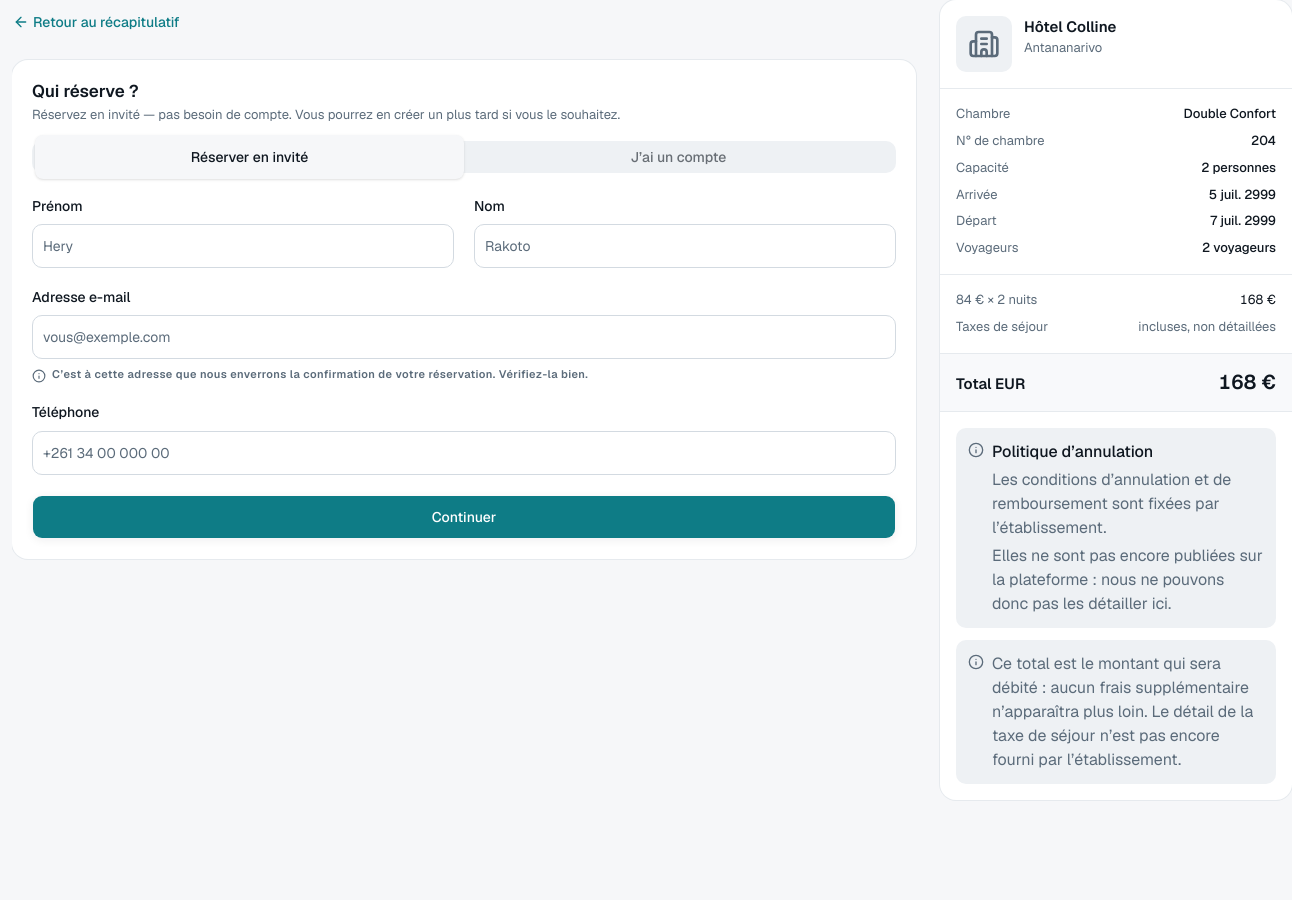
BookingIdentify (intégration — story 2.3) › connexion depuis l’onglet compte : pas de navigation, l’écran passe au panneau connecté
This screenshot has width=1292, height=900.
Expected: the form with test id "guest-form" is shown, top-left (32, 197), bottom-right (896, 539)
Click the tab with test id "identify-tab-account".
click(678, 157)  # box top-left (464, 135), bottom-right (893, 179)
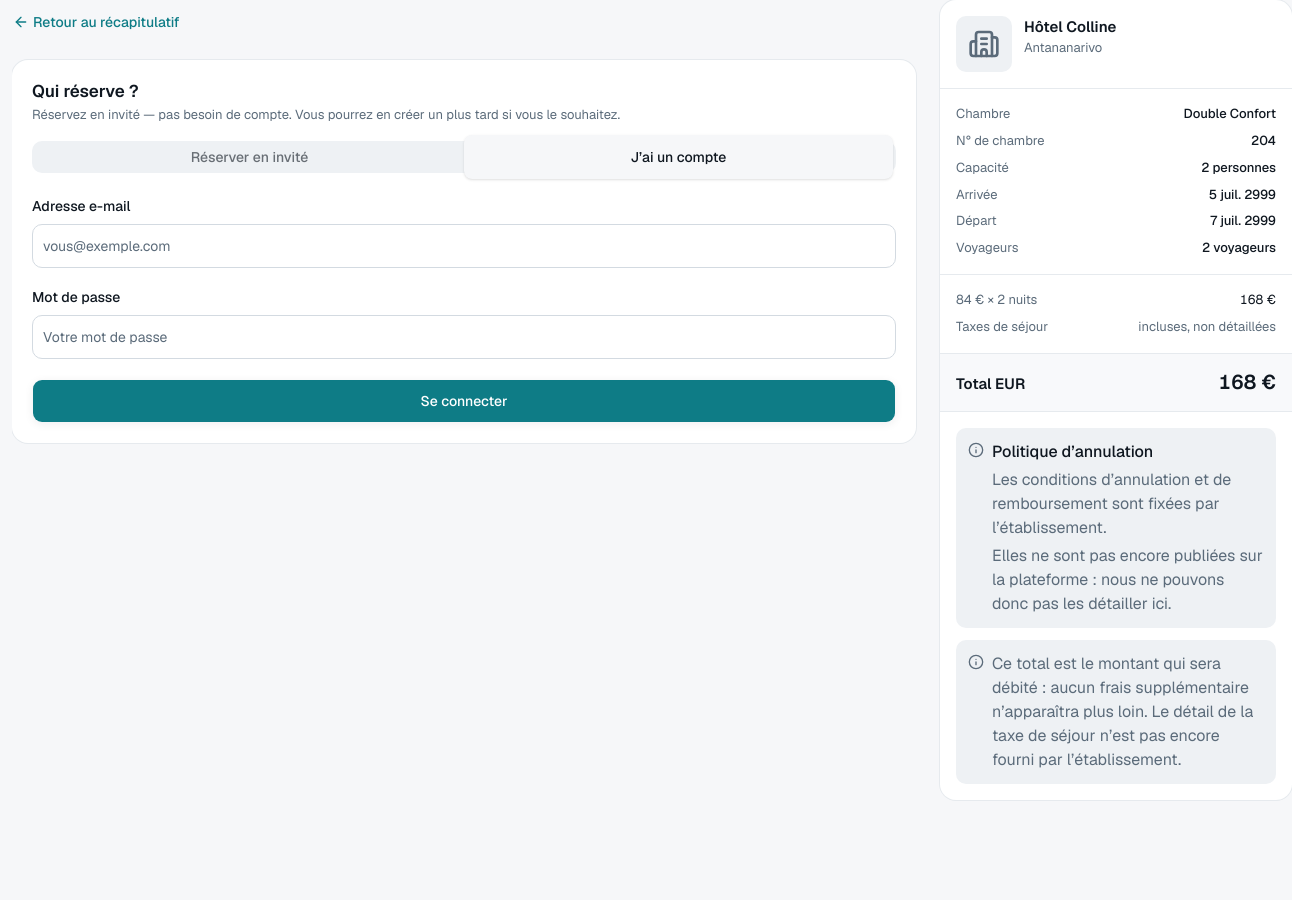
Type "voyageur@example.com" into the field with test id "login-email".
click(464, 246); type("voyageur@example.com")  # box top-left (32, 224), bottom-right (896, 268)
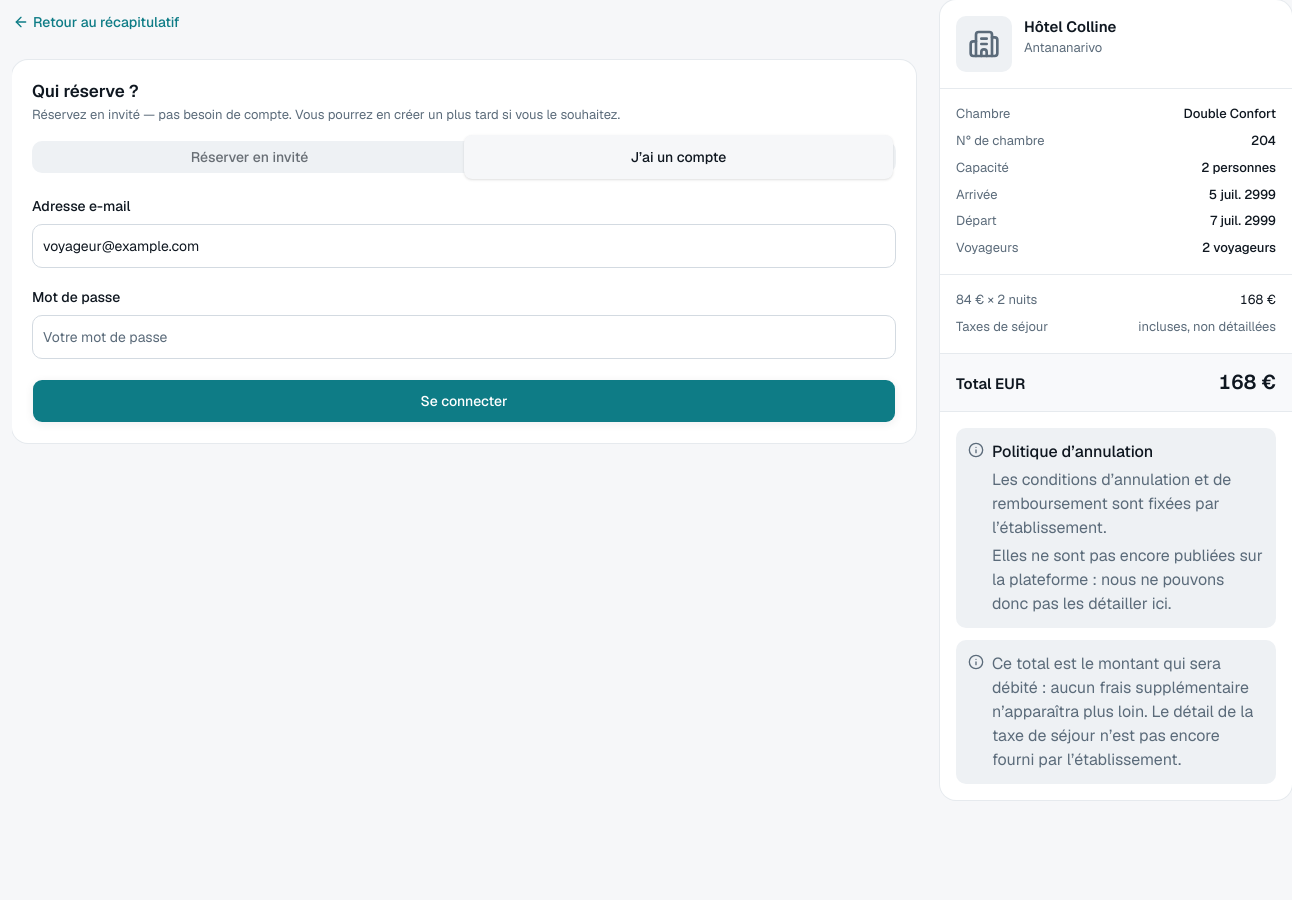
Type "secret123" into the password field with test id "login-password".
click(464, 337); type("secret123")  # box top-left (32, 315), bottom-right (896, 359)
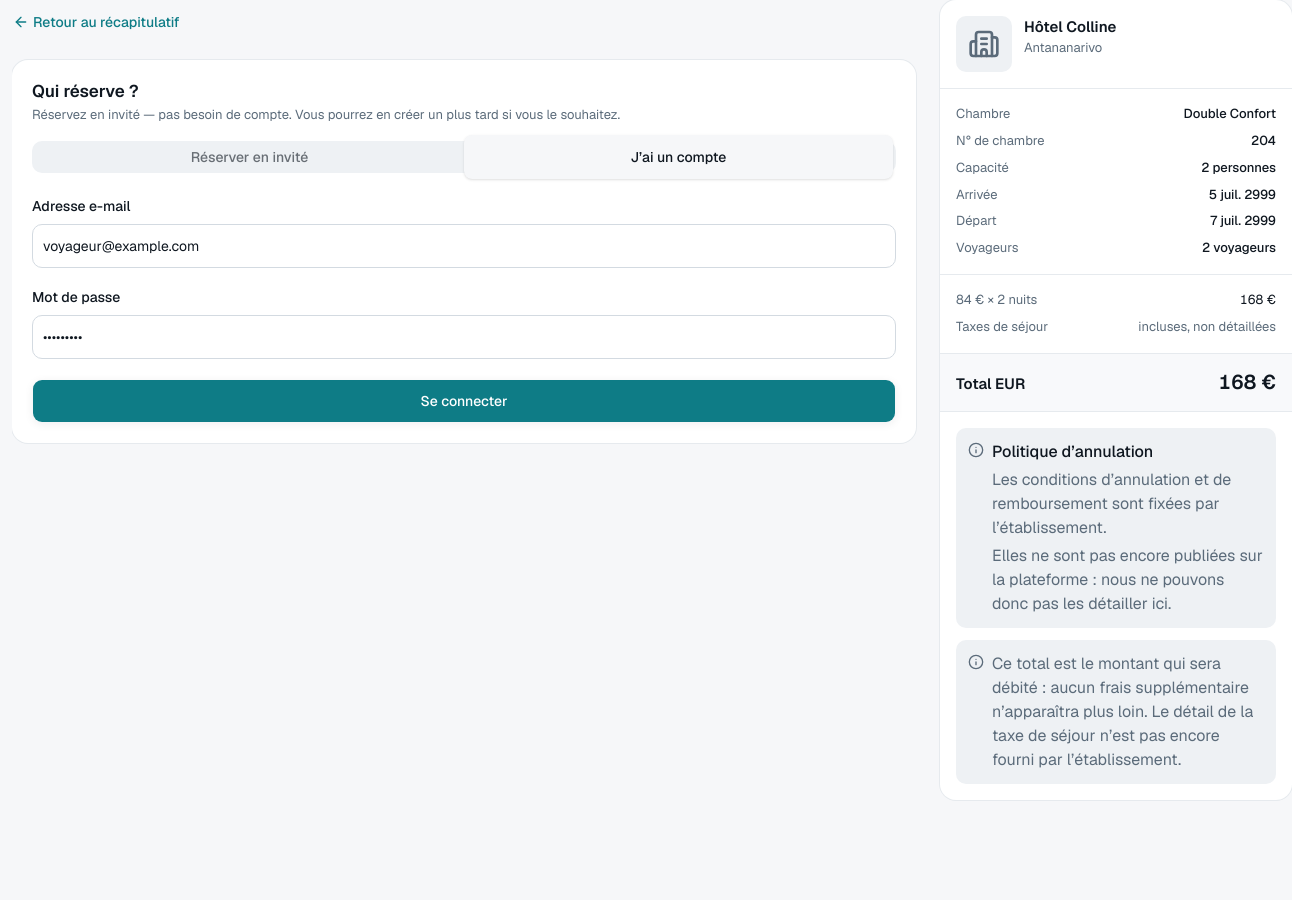
Click the button with test id "login-submit".
click(464, 401)  # box top-left (32, 379), bottom-right (896, 423)
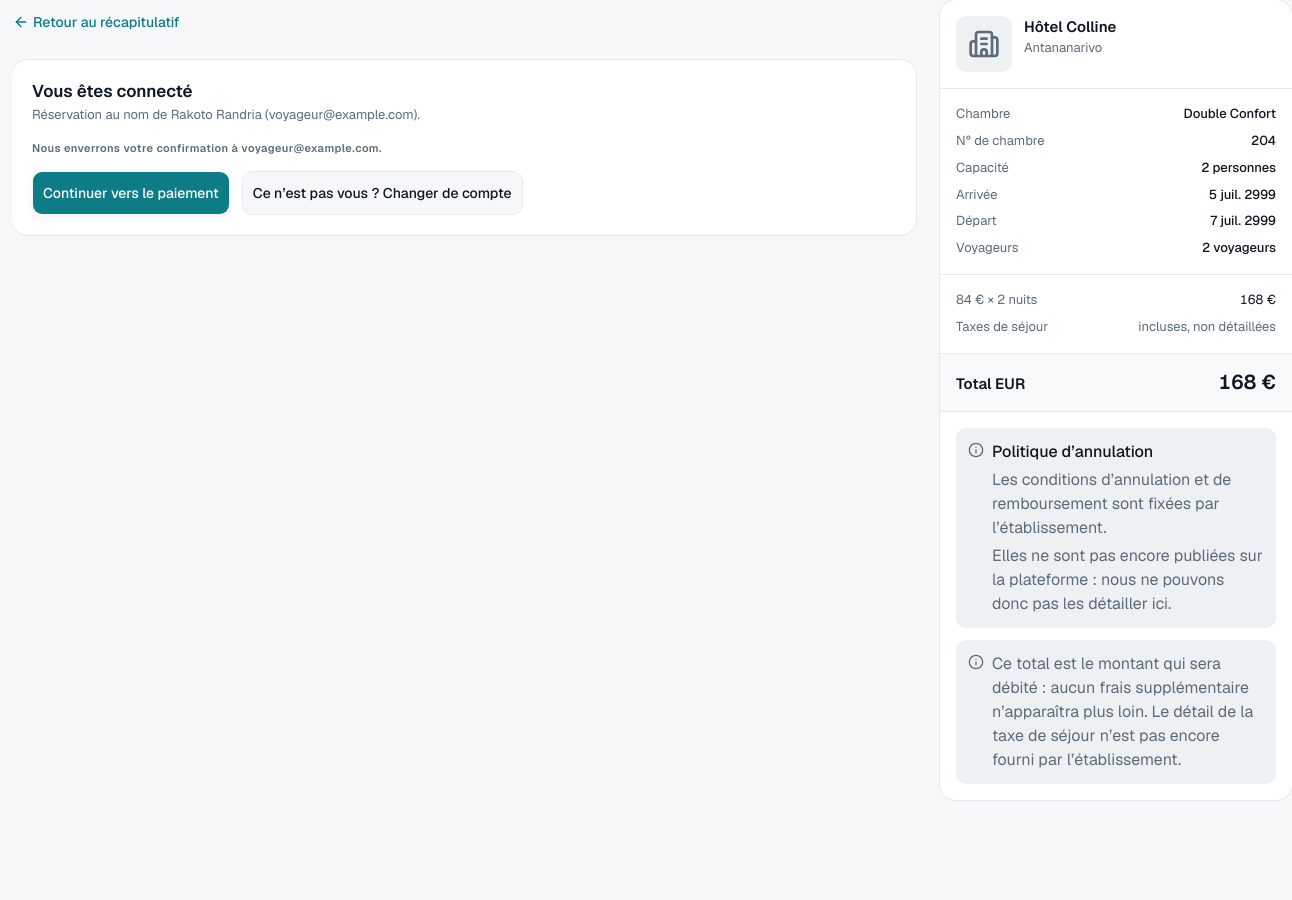
Now the element with test id "identify-signed-in" is shown, box top-left (12, 60), bottom-right (916, 235)
